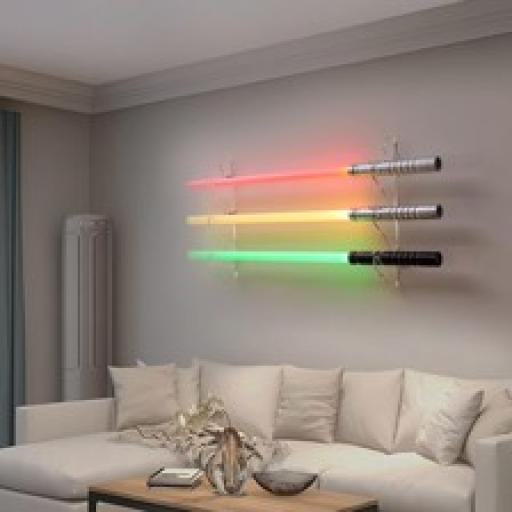lightsaber: (190, 247, 442, 278), (189, 203, 444, 233)
sith saber: (188, 156, 441, 188)
